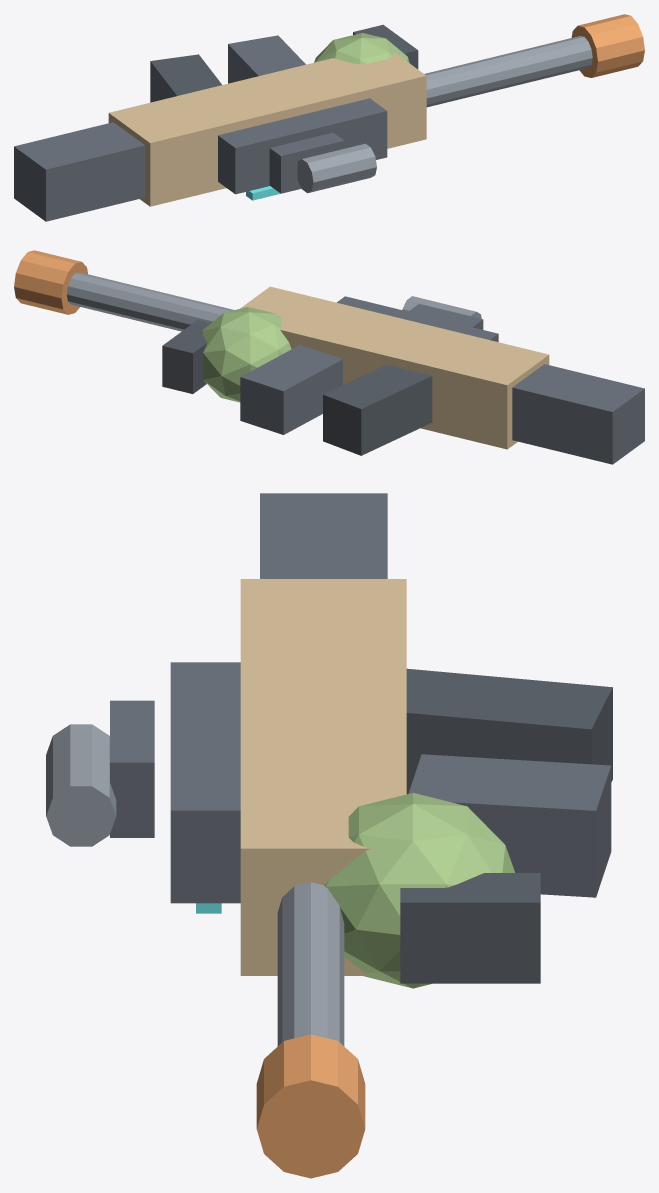
File: pea_popper_lod1.glb
3 renders of one model, top to bottom at view 1: azimuth 30°, elevation 25°; view 2: azimuth 150°, elevation 25°; view 3: azimuth 270°, elevation 25°, orthographic. The views are drawn at different scales.
Visible parts, largest first — view 1: receiver, stock, upper, barrel, muzzle, optic, magazine, grip, optic_base, pea_canister, foregrip; view 2: receiver, stock, grip, magazine, pea_canister, barrel, muzzle, foregrip, upper, optic_base, optic; view 3: receiver, magazine, pea_canister, grip, upper, foregrip, muzzle, stock, barrel, optic, optic_base.
Boxes of the visible parts, left/top/right/bottom form: receiver: left=108, top=52, right=426, bottom=206; stock: left=14, top=122, right=145, bottom=221; upper: left=218, top=98, right=387, bottom=194; barrel: left=424, top=36, right=592, bottom=107; muzzle: left=571, top=14, right=644, bottom=77; optic: left=297, top=143, right=376, bottom=193; magazine: left=228, top=35, right=305, bottom=83; grip: left=150, top=54, right=221, bottom=102; optic_base: left=269, top=132, right=344, bottom=193; pea_canister: left=314, top=33, right=409, bottom=64; foregrip: left=353, top=24, right=418, bottom=69; receiver: left=240, top=286, right=549, bottom=449; stock: left=512, top=364, right=644, bottom=464; grip: left=323, top=364, right=432, bottom=455; magazine: left=240, top=345, right=342, bottom=434; pea_canister: left=201, top=307, right=291, bottom=402; barrel: left=66, top=272, right=233, bottom=331; muzzle: left=14, top=250, right=87, bottom=314; foregrip: left=162, top=320, right=210, bottom=393; upper: left=337, top=296, right=498, bottom=341; optic_base: left=408, top=304, right=483, bottom=329; optic: left=402, top=296, right=481, bottom=318; receiver: left=240, top=579, right=406, bottom=975; magazine: left=408, top=754, right=611, bottom=897; pea_canister: left=324, top=793, right=514, bottom=988; grip: left=406, top=668, right=612, bottom=794; upper: left=170, top=662, right=240, bottom=903; foregrip: left=400, top=873, right=540, bottom=983; muzzle: left=256, top=1034, right=365, bottom=1178; stock: left=260, top=493, right=387, bottom=578; barrel: left=277, top=882, right=344, bottom=1045; optic: left=46, top=724, right=116, bottom=846; optic_base: left=110, top=700, right=154, bottom=837.
Size of the model in its own units: 2.16 by 0.3 by 0.8879.
